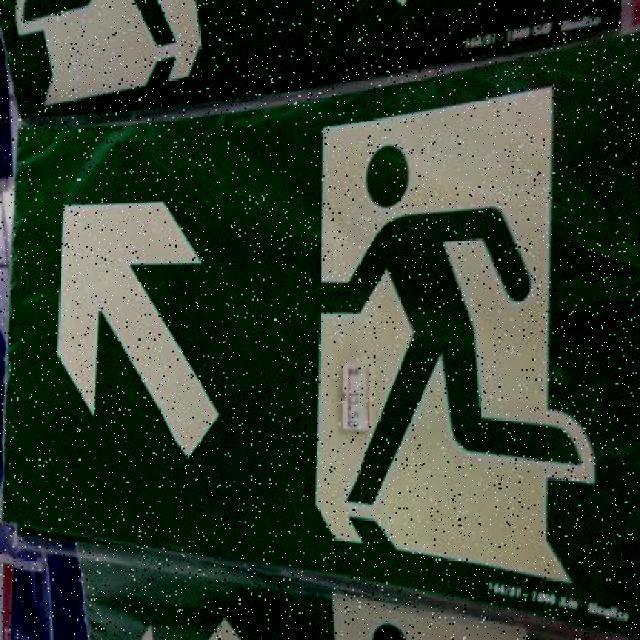emergency_exit: (2, 16, 637, 637), (314, 84, 596, 585)
